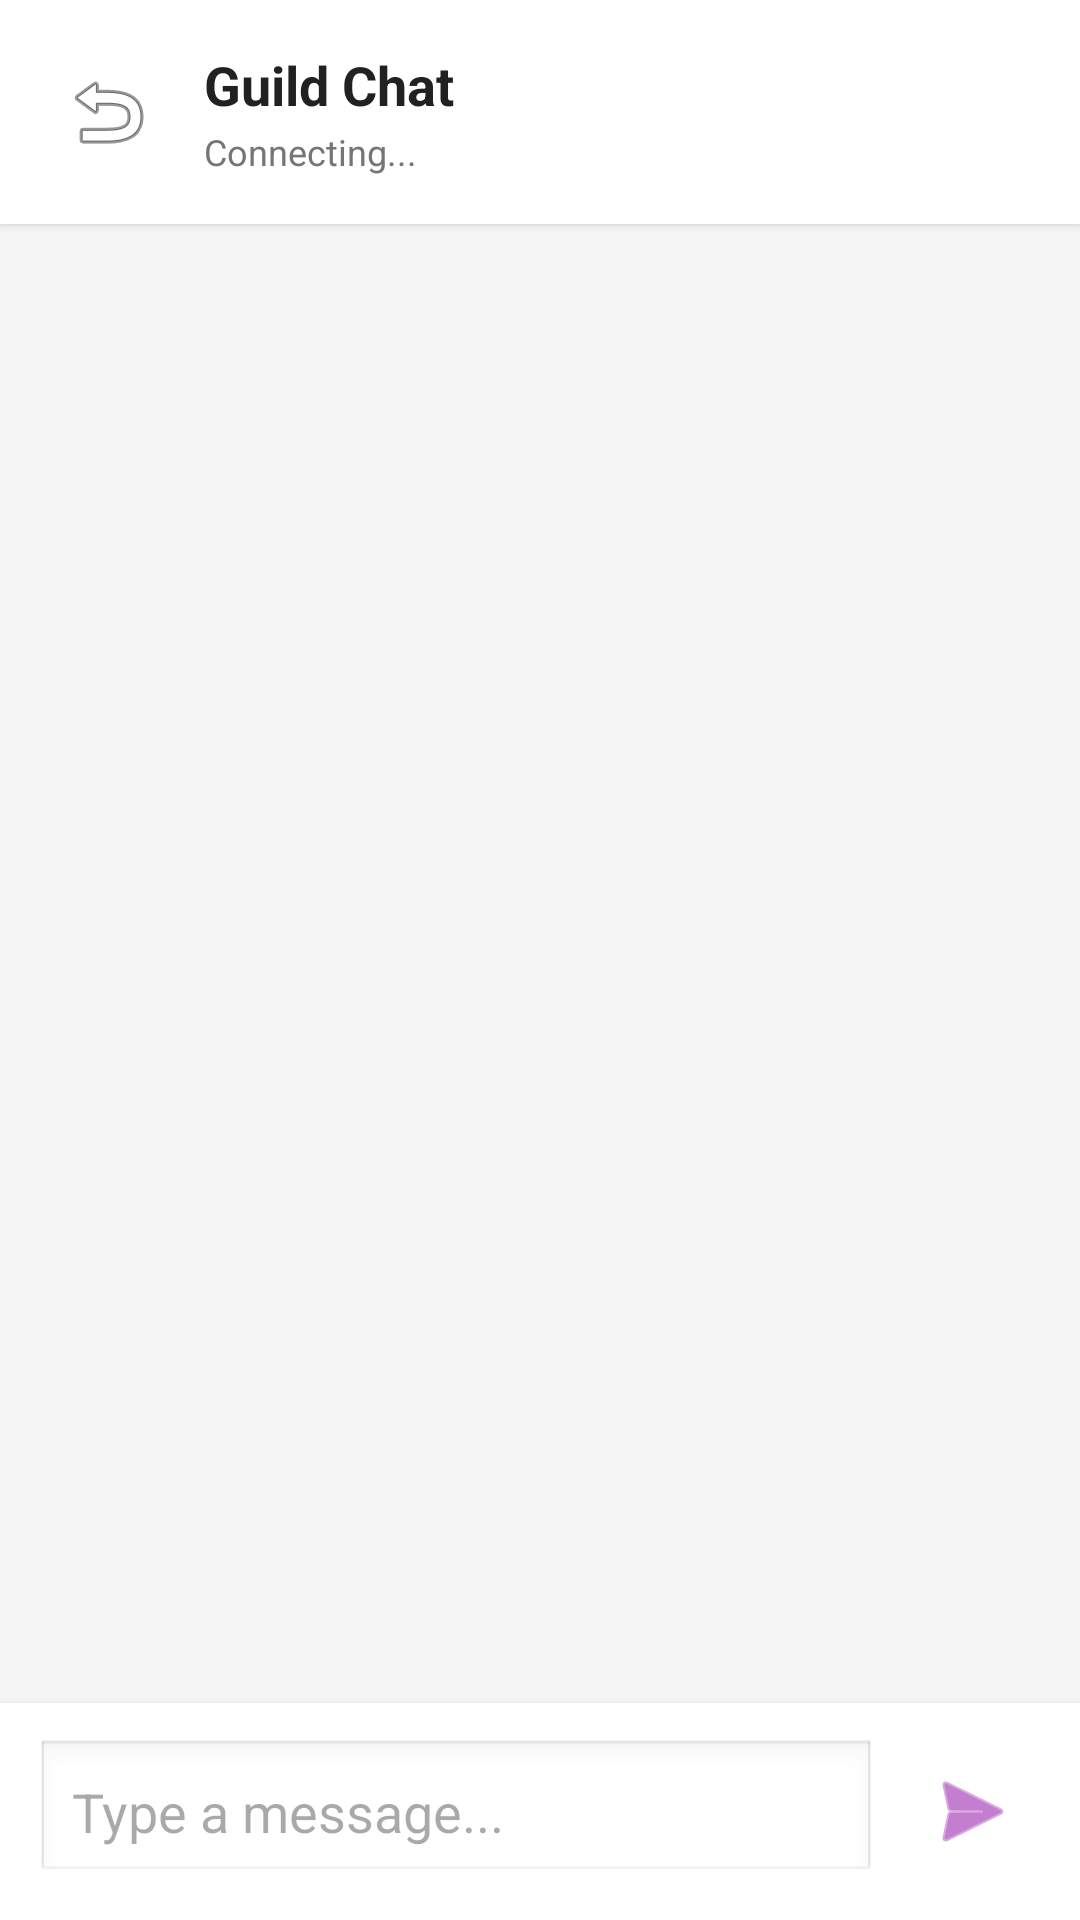

Where icons sit on this 1080px×1920px app screen, as {"left": x1, "top": y1, "right": x2, "bottom": y2}:
Back: {"left": 75, "top": 81, "right": 144, "bottom": 144}
Send: {"left": 942, "top": 1781, "right": 1004, "bottom": 1842}
